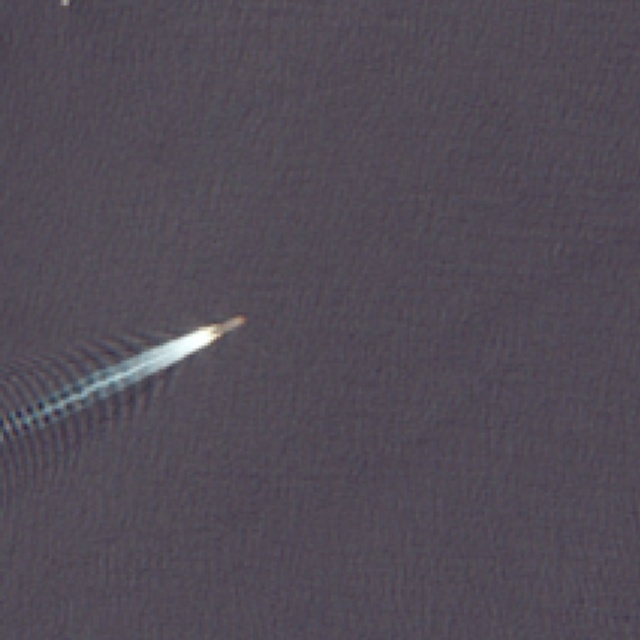wake: (6, 274, 272, 460)
